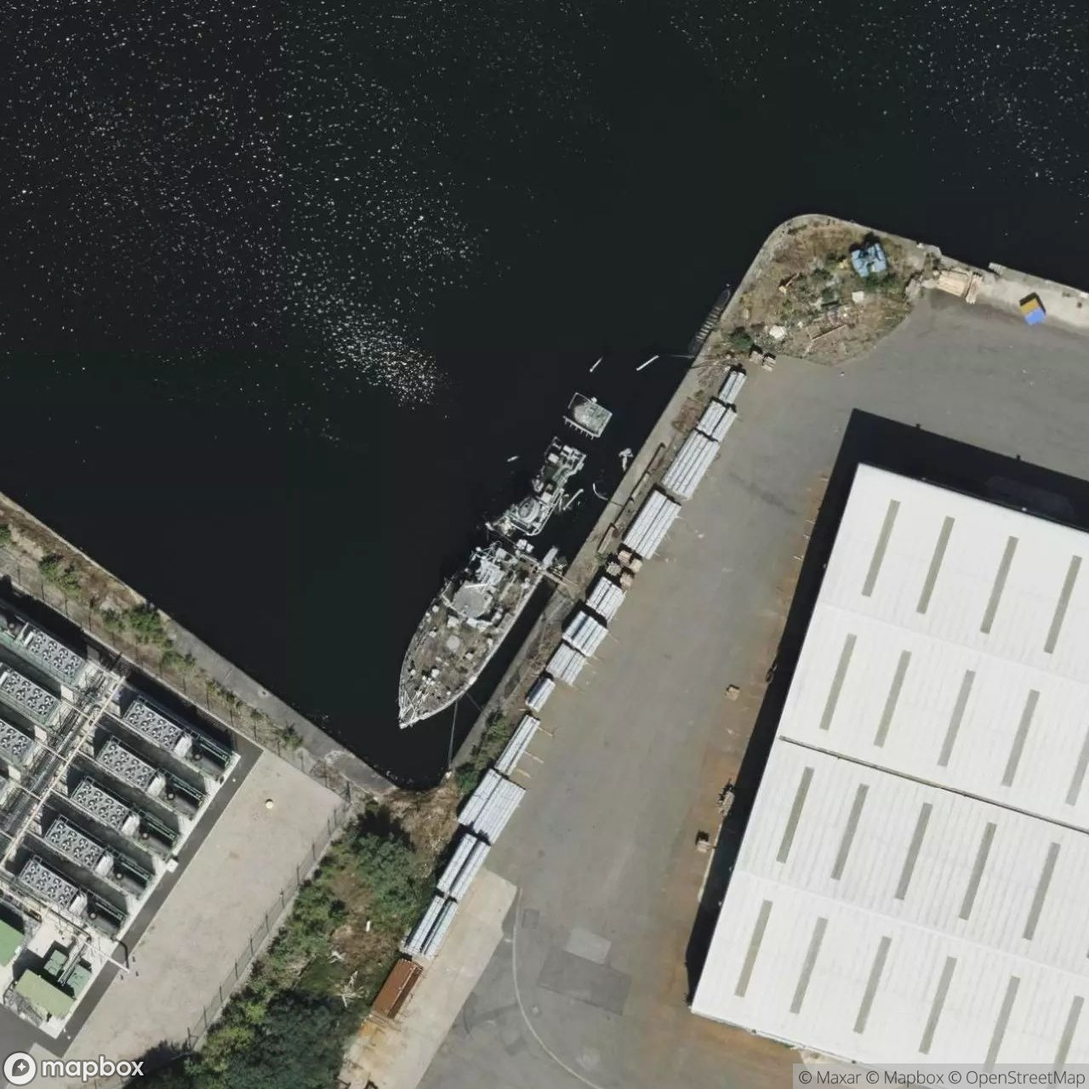Wreck: (342, 686, 738, 822)
